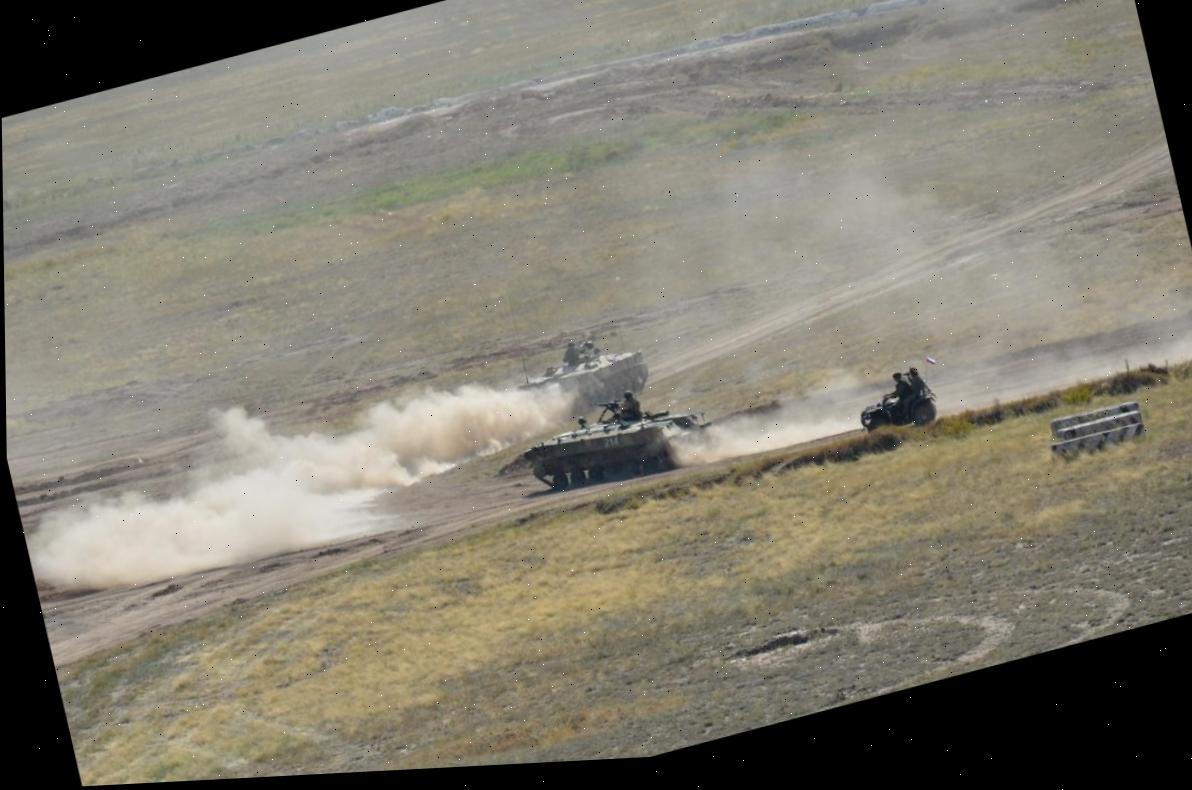person: (878, 368, 916, 426), (898, 363, 934, 423), (613, 386, 646, 427), (558, 338, 587, 371)
tank: (515, 377, 724, 519), (507, 325, 658, 435)
